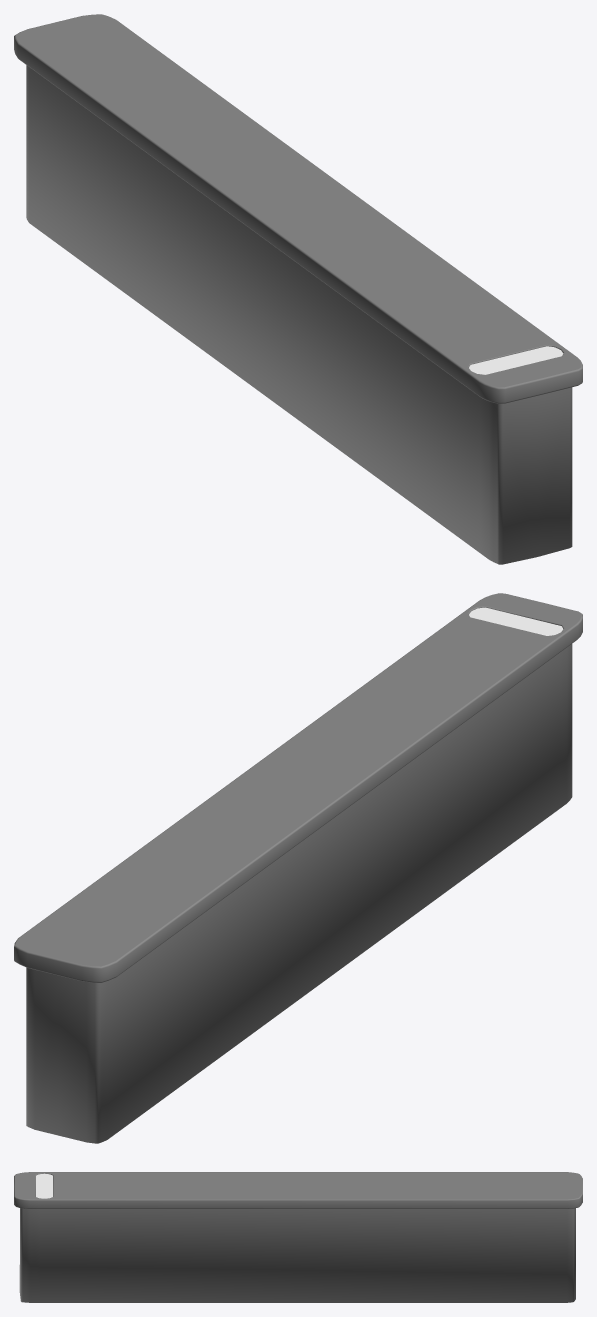
File: Platform.fbx
3 renders of one model, top to bottom at view 1: azimuth 30°, elevation 25°; view 2: azimuth 150°, elevation 25°; view 3: azimuth 270°, elevation 25°, orthographic. The views are drawn at different scales.
Parts seen in each view (by area): view 1: Cube; view 2: Cube; view 3: Cube.
Boxes of the visible parts, x1,y1,x2,y2 form: Cube: (14, 14, 582, 564); Cube: (14, 593, 582, 1143); Cube: (14, 1172, 582, 1302).
Size of the model in its own units: 1254 by 2200 by 10708.
